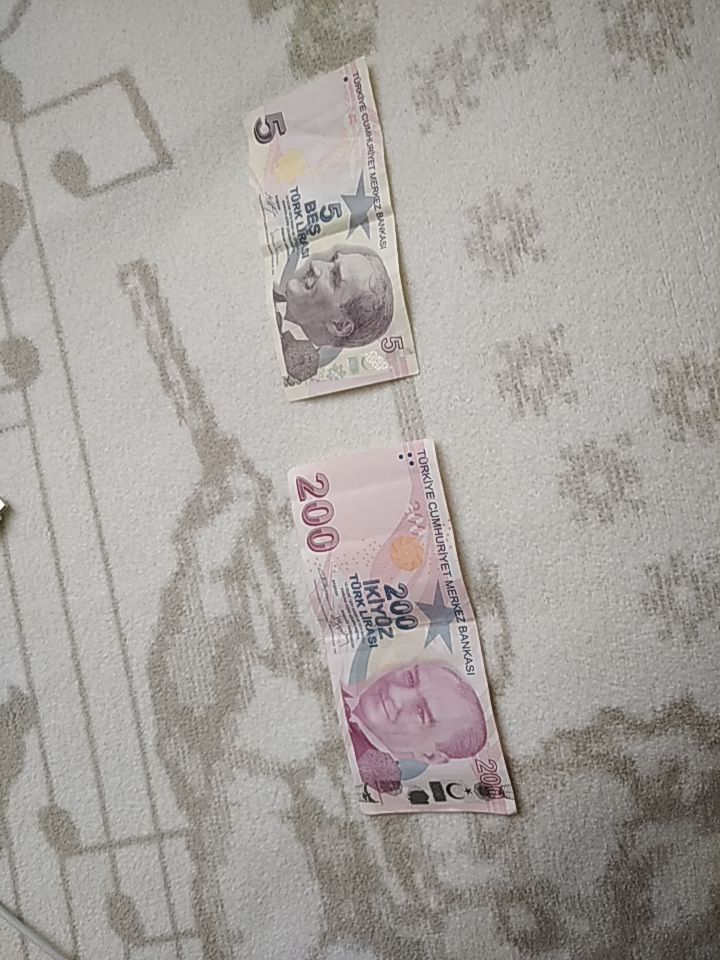200TL: (285, 438, 521, 819)
5TL: (239, 56, 421, 402)
